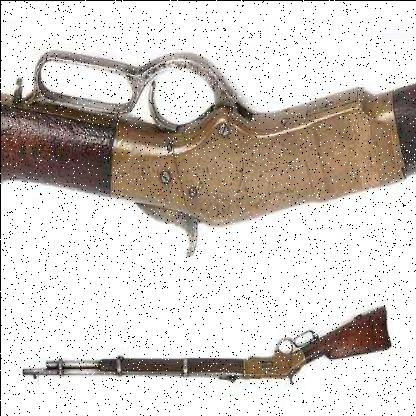rifle: (1, 29, 416, 211), (8, 271, 394, 391)
